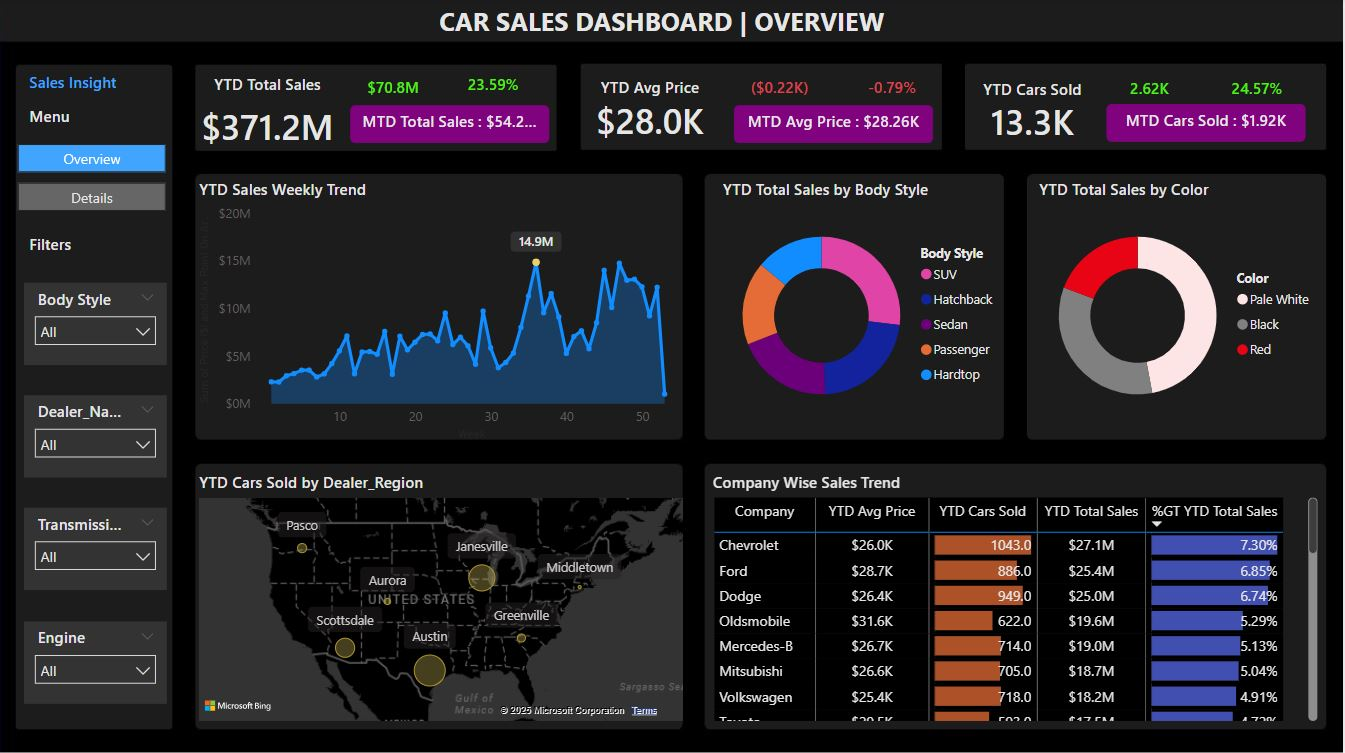

Layout of this report page (visuals, bound fields, positions):
{"tool":"powerbi","page":{"name":"Overview","canvas":[1280,720],"ordinal":0},"visuals":[{"type":"card","title":"YTD Total Sales","fields":{"Values":["car_data.YTD Total Sales"]},"box":[172.9,70,166,83.7],"z":0},{"type":"card","fields":{"Values":["car_data.Sales Difference"]},"box":[334.8,68.6,82.3,34.3],"z":1000},{"type":"card","fields":{"Values":["car_data.YOY Sales Growth"]},"box":[429.5,67.2,82.3,34.3],"z":2000},{"type":"card","fields":{"Values":["car_data.MTD KPI"]},"box":[334.8,101.5,189.4,35.7],"z":3000},{"type":"card","title":"YTD Avg Price","fields":{"Values":["car_data.YTD Avg Price"]},"box":[536.5,74.1,166,64.5],"z":4000},{"type":"card","fields":{"Values":["car_data.Avg Price Difference"]},"box":[702.6,68.6,82.3,34.3],"z":5000},{"type":"card","fields":{"Values":["car_data.YOY Avg Price Growth"]},"box":[809.6,68.6,82.3,34.3],"z":6000},{"type":"card","fields":{"Values":["car_data.MTD Avg Price KPI"]},"box":[699.8,101.5,189.4,35.7],"z":7000},{"type":"card","title":"YTD Cars Sold","fields":{"Values":["car_data.YTD Cars Sold"]},"box":[901.5,75.5,166,64.5],"z":8000},{"type":"card","fields":{"Values":["car_data.Cars Sold Difference"]},"box":[1055.2,70,82.3,34.3],"z":9000},{"type":"card","fields":{"Values":["car_data.YOY Cars Sold Growth"]},"box":[1156.8,70,82.3,34.3],"z":10000},{"type":"card","fields":{"Values":["car_data.MTD Cars Sold KPI"]},"box":[1055.2,100.2,189.4,35.7],"z":11000},{"type":"areaChart","title":"YTD Sales Weekly Trend","fields":{"Category":["Date Master.Week"],"Y":["Sum(car_data.Price ($))","car_data.Max Point On Area Chart"]},"box":[185.2,170.2,470.7,255.2],"z":12000},{"type":"donutChart","fields":{"Category":["car_data.Body Style"],"Y":["car_data.YTD Total Sales"]},"box":[684.7,170.2,275.8,242.9],"z":13000},{"type":"donutChart","fields":{"Y":["car_data.YTD Total Sales"],"Category":["car_data.Color"]},"box":[985.3,170.2,275.8,242.9],"z":14000},{"type":"map","fields":{"Category":["car_data.Dealer_Region"],"Size":["car_data.YTD Cars Sold"]},"box":[185.2,450.1,470.7,242.9],"z":15000},{"type":"tableEx","title":"Company Wise Sales Trend","fields":{"Values":["car_data.Company","car_data.YTD Avg Price","car_data.YTD Cars Sold","car_data.YTD Total Sales1","car_data.YTD Total Sales"]},"box":[675.1,450.1,585.9,242.9],"z":16000},{"type":"textbox","box":[414.4,0,450.1,46.7],"z":17000},{"type":"slicer","fields":{"Values":["car_data.Body Style"]},"box":[23.3,270.3,135.8,78.2],"z":18000},{"type":"slicer","fields":{"Values":["car_data.Dealer_Name"]},"box":[23.3,377.4,135.8,78.2],"z":19000},{"type":"slicer","fields":{"Values":["car_data.Transmission"]},"box":[23.3,484.4,135.8,78.2],"z":20000},{"type":"slicer","fields":{"Values":["car_data.Engine"]},"box":[23.3,592.8,135.8,78.2],"z":21000},{"type":"textbox","title":"Filters","box":[23.3,222.3,53.5,24.7],"z":22000},{"type":"pageNavigator","box":[17.8,138.6,141.3,65.9],"z":22001},{"type":"textbox","title":"Sales Insight","box":[23.3,68.6,105.7,26.1],"z":22002},{"type":"textbox","title":"Menu","box":[23.3,101.5,59,24.7],"z":22003}]}

Visuals, with their boxes in screenshot pixels (x1, y1, x2, y2), scaled from the page's 1280x720 canvas onto the 1345x753 screenshot:
"YTD Total Sales" card: <box>182,73,356,161</box>
card - car_data.Sales Difference: <box>352,72,438,108</box>
card - car_data.YOY Sales Growth: <box>451,70,538,106</box>
card - car_data.MTD KPI: <box>352,106,551,143</box>
"YTD Avg Price" card: <box>564,77,738,145</box>
card - car_data.Avg Price Difference: <box>738,72,825,108</box>
card - car_data.YOY Avg Price Growth: <box>851,72,937,108</box>
card - car_data.MTD Avg Price KPI: <box>735,106,934,143</box>
"YTD Cars Sold" card: <box>947,79,1122,146</box>
card - car_data.Cars Sold Difference: <box>1109,73,1195,109</box>
card - car_data.YOY Cars Sold Growth: <box>1216,73,1302,109</box>
card - car_data.MTD Cars Sold KPI: <box>1109,105,1308,142</box>
"YTD Sales Weekly Trend" areaChart: <box>195,178,689,445</box>
donutChart - car_data.Body Style x car_data.YTD Total Sales: <box>719,178,1009,432</box>
donutChart - car_data.YTD Total Sales x car_data.Color: <box>1035,178,1325,432</box>
map - car_data.Dealer_Region x car_data.YTD Cars Sold: <box>195,471,689,725</box>
"Company Wise Sales Trend" tableEx: <box>709,471,1325,725</box>
textbox: <box>435,0,908,49</box>
slicer - car_data.Body Style: <box>24,283,167,364</box>
slicer - car_data.Dealer_Name: <box>24,395,167,476</box>
slicer - car_data.Transmission: <box>24,507,167,588</box>
slicer - car_data.Engine: <box>24,620,167,702</box>
"Filters" textbox: <box>24,232,81,258</box>
pageNavigator: <box>19,145,167,214</box>
"Sales Insight" textbox: <box>24,72,136,99</box>
"Menu" textbox: <box>24,106,86,132</box>
